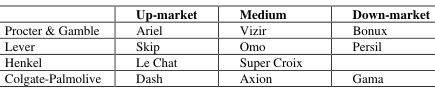table: (3, 4, 428, 85)
table column: (3, 4, 117, 85), (217, 4, 326, 85), (326, 4, 428, 85), (117, 4, 217, 85)
table column header: (3, 4, 428, 21)
table row: (3, 4, 428, 21), (3, 68, 428, 85), (3, 36, 428, 52), (3, 52, 428, 68), (3, 21, 428, 36)
